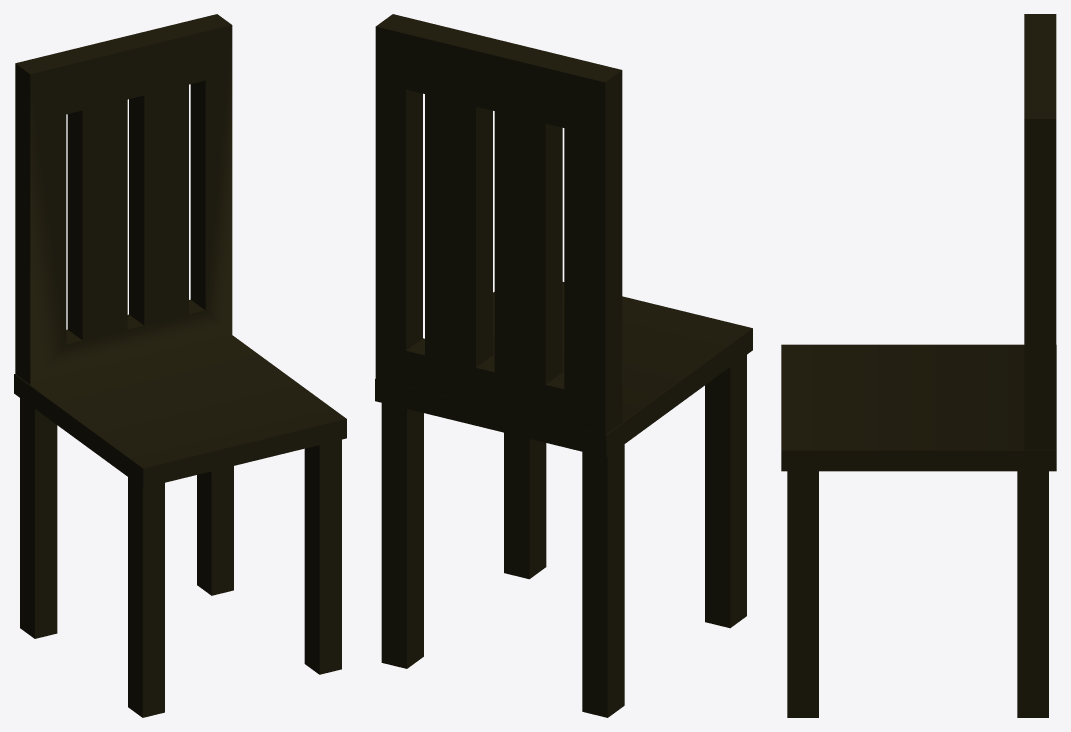
Rendered from Silla.fbx.
The picture shows the model from 3 angles, left to right: view 1: azimuth 30°, elevation 25°; view 2: azimuth 150°, elevation 25°; view 3: azimuth 270°, elevation 25°; orthographic projection. The views are drawn at different scales.
Visible parts, largest first — view 1: Box007; view 2: Box007; view 3: Box007.
Boxes of the visible parts, x1,y1,x2,y2 form: Box007: (14, 14, 346, 717); Box007: (375, 14, 752, 717); Box007: (781, 14, 1056, 717).
Bounding box in the file's own units: 36.92 × 97.44 × 40.54.
